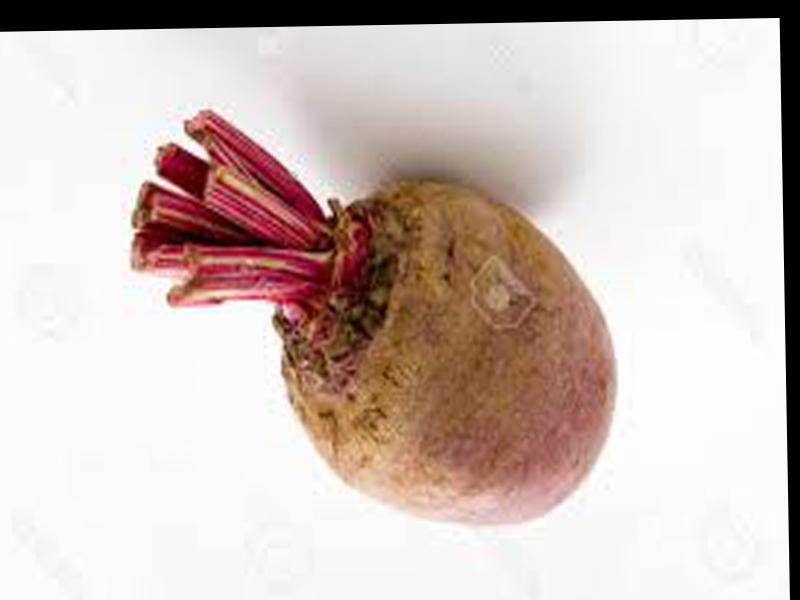Beet: (129, 99, 620, 533)
